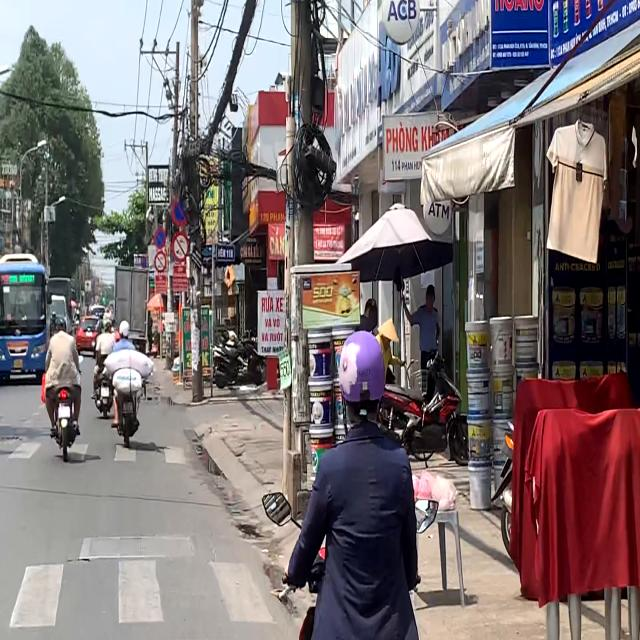P.131a: (153, 227, 166, 250)
